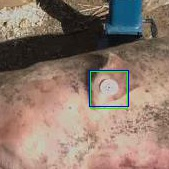text: (90, 71, 127, 108)
